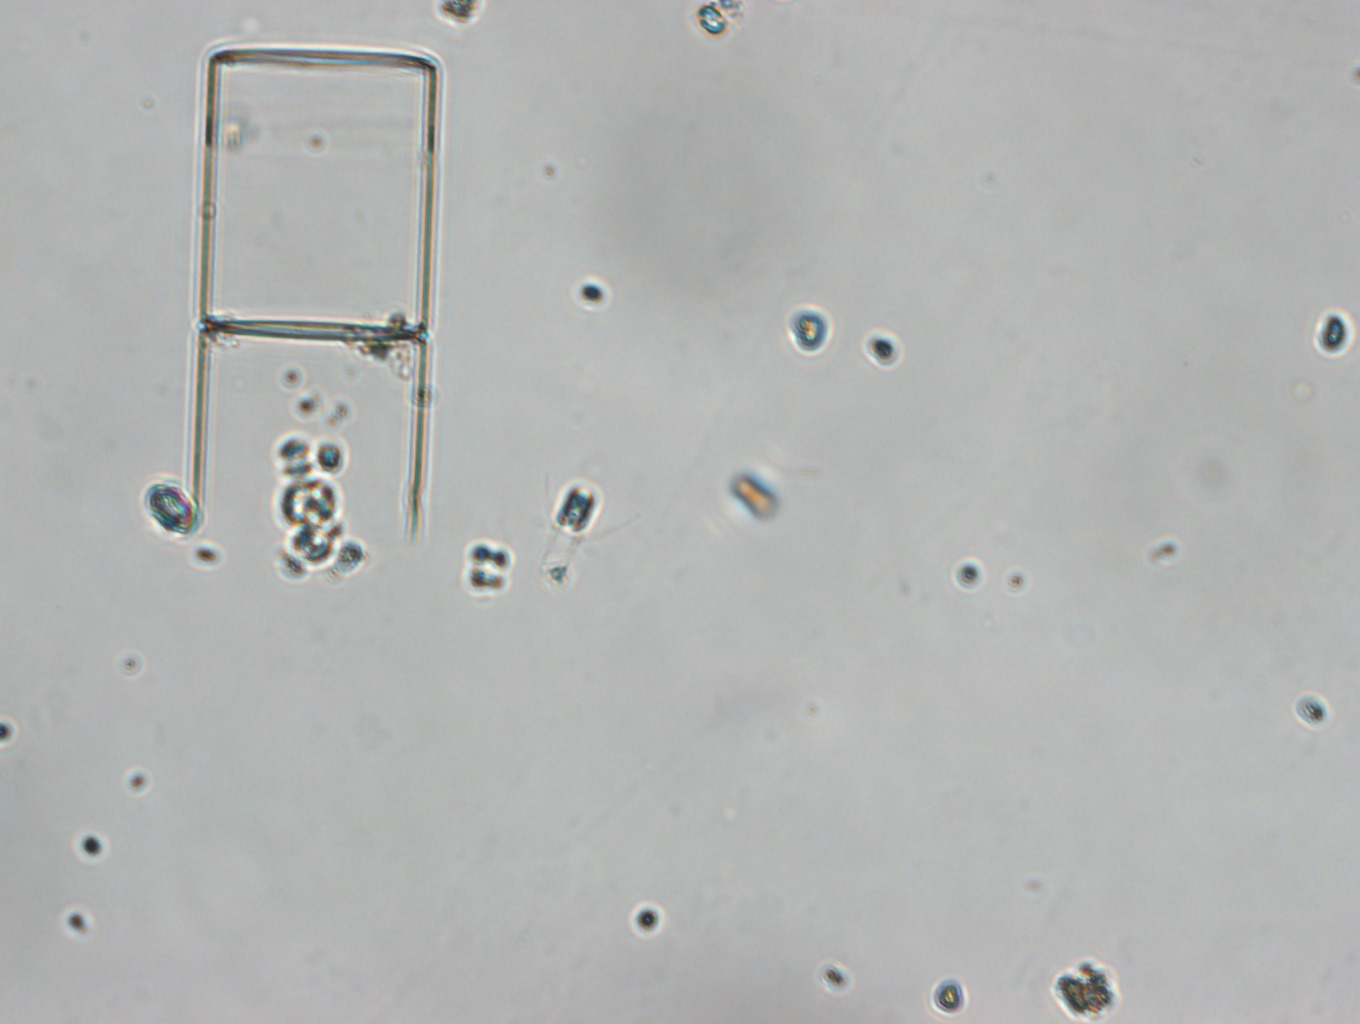guinardia flaccida: (187, 35, 453, 520)
